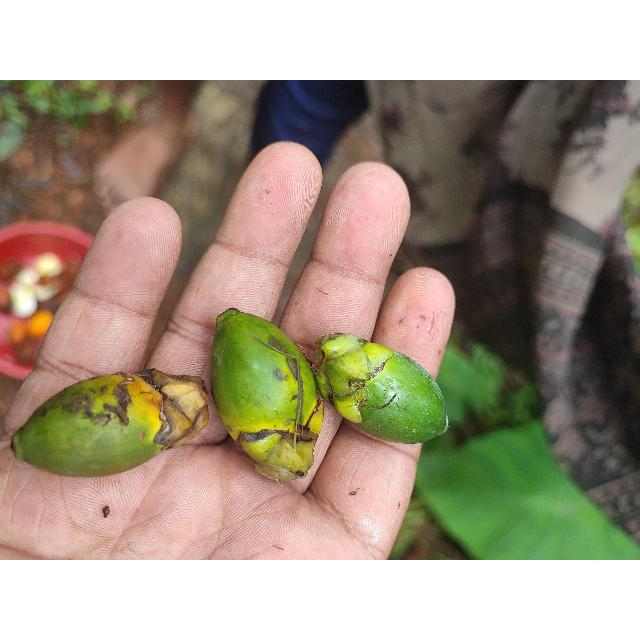damaged: (9, 370, 218, 479), (210, 310, 321, 487), (315, 334, 448, 445)
